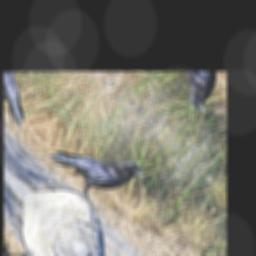Crow: (40, 112, 150, 223)
